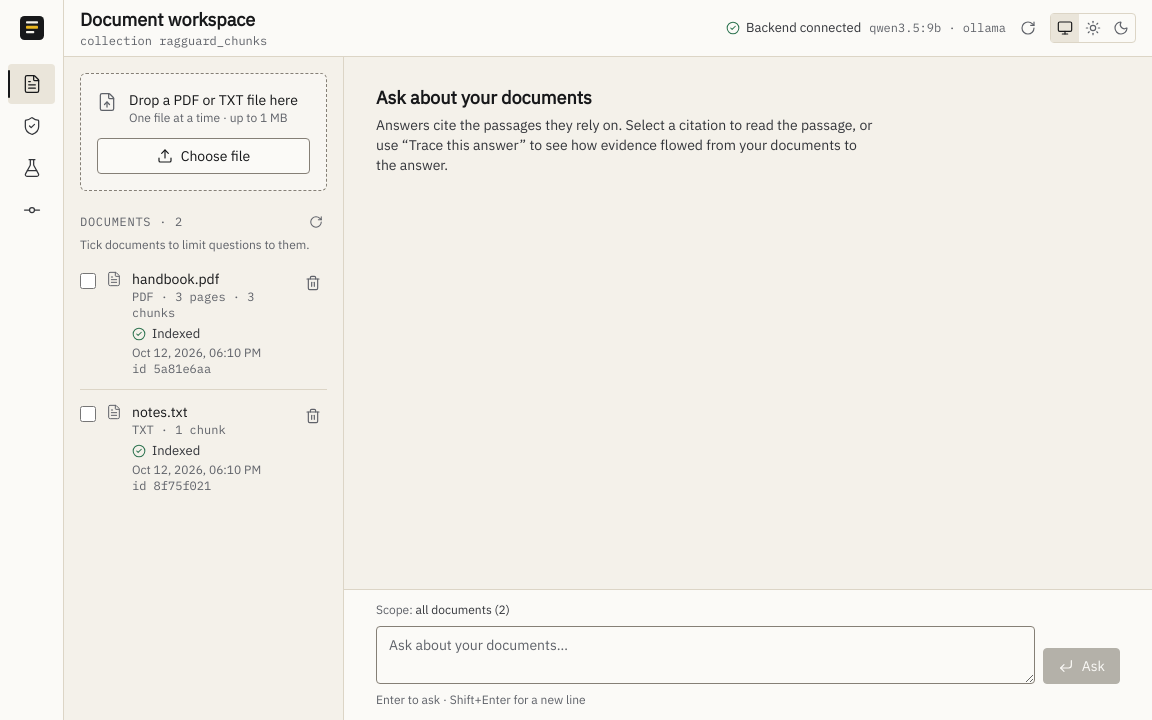
Scenario: questions and evidence › renders an answer with genuine sources and inspectable evidence
The width and height of the screenshot is (1152, 720).
Type "How much annual leave do employees get?" into the text box named "Question" at (705, 655), box 376,626 -> 1035,684
Then press Enter
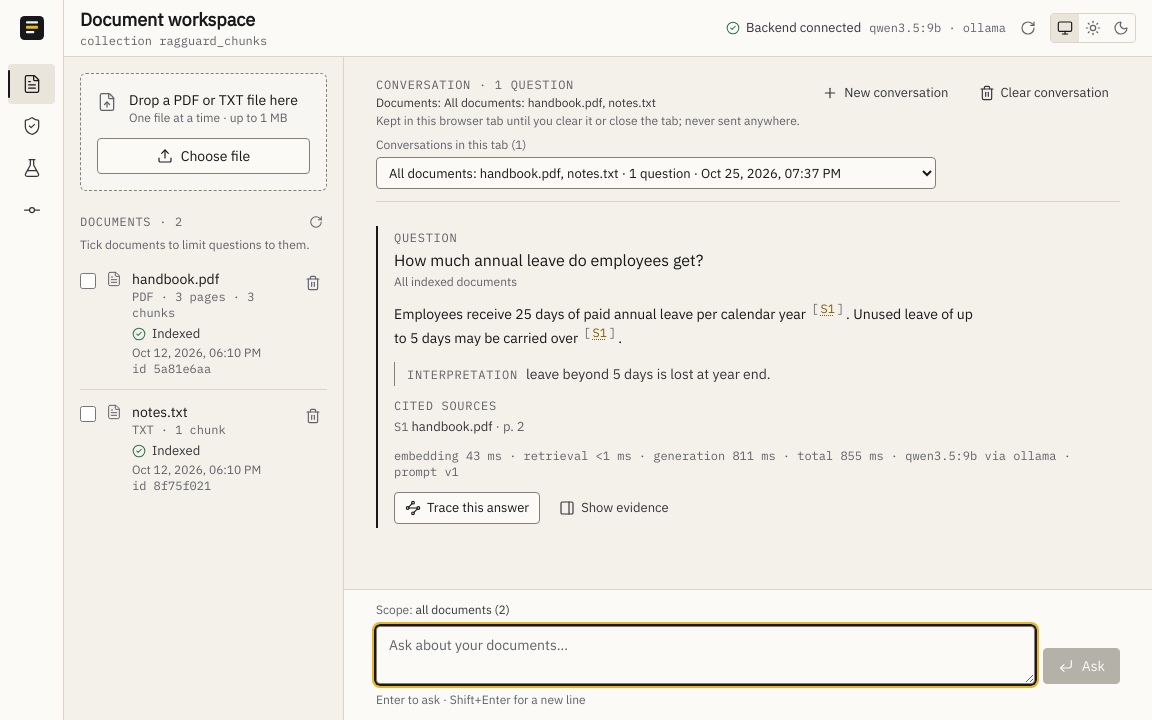
Expected: the element named "Answer" shows "Employees receive 25 days of paid annual leave", 394,305 -> 809,323
Expected: the text "Interpretation" is shown, 407,367 -> 518,382
Expected: the element named "Answer" shows "embedding 43 ms · retrieval <1 ms · generation 811 ms · total 855 ms", 394,448 -> 884,463
Click the button named "Source S1: handbook.pdf, p. 2" at (828, 309), box 818,303 -> 837,315
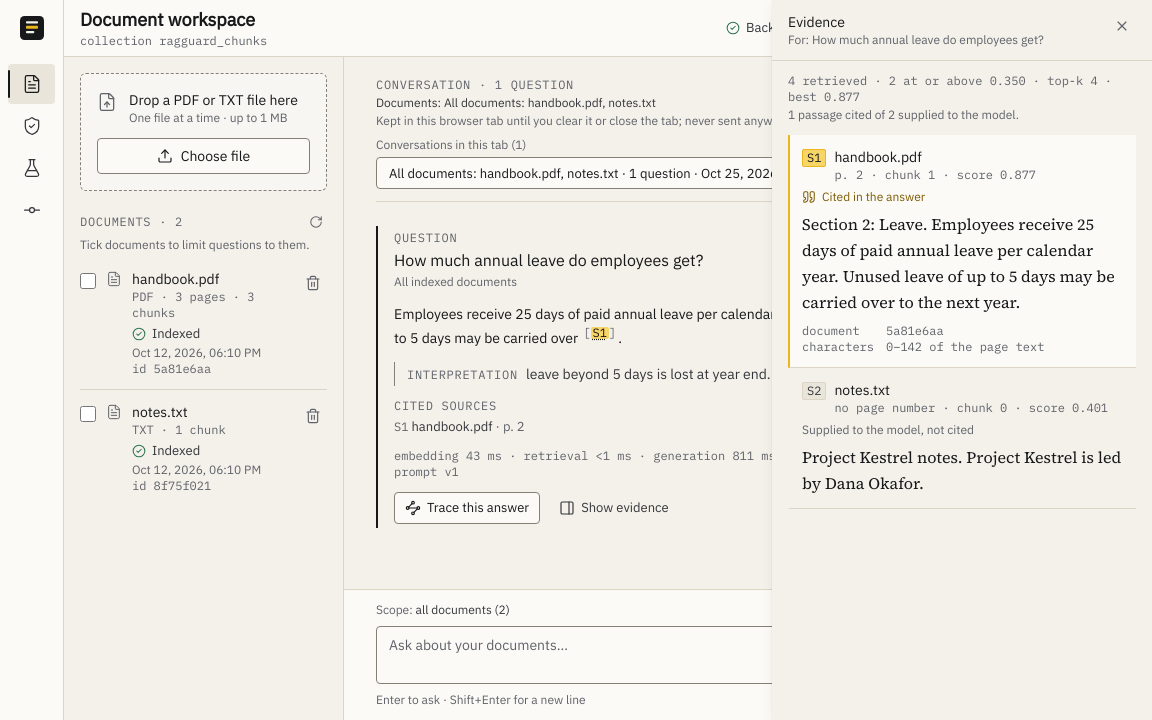
Expected: the 3rd list item shows "handbook.pdf", 802,147 -> 1132,183
Expected: the 3rd list item shows "p. 2 · chunk 1 · score 0.877", 788,135 -> 1136,368
Expected: the 3rd list item shows "Cited in the answer", 822,189 -> 925,204
